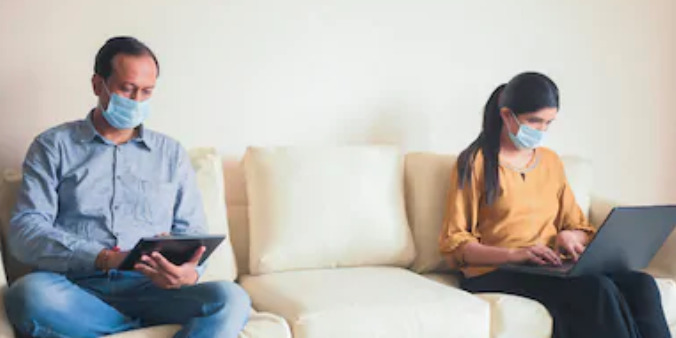Good: (6, 31, 596, 338)
